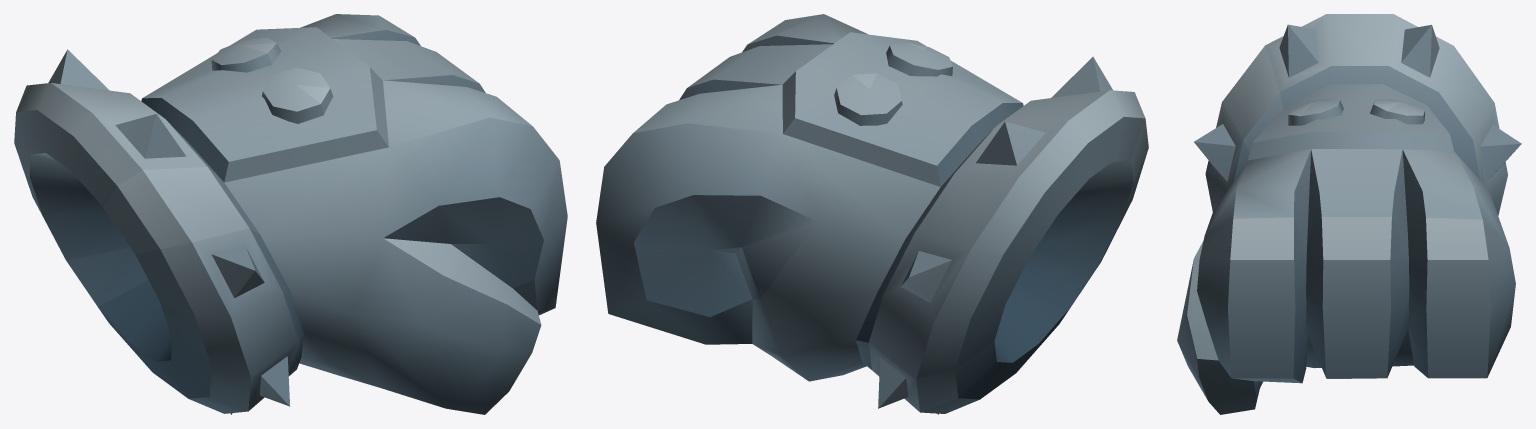
File: fistweapon_C_left.glb
The picture shows the model from 3 angles, left to right: view 1: azimuth 30°, elevation 25°; view 2: azimuth 150°, elevation 25°; view 3: azimuth 270°, elevation 25°; orthographic projection. The views are drawn at different scales.
Visible parts, largest first — view 1: fistweapon_C_left; view 2: fistweapon_C_left; view 3: fistweapon_C_left.
Boxes of the visible parts, x1,y1,x2,y2 form: fistweapon_C_left: (14, 14, 567, 414); fistweapon_C_left: (596, 14, 1148, 414); fistweapon_C_left: (1177, 14, 1521, 414).
Bounding box in the file's own units: 0.5237 × 0.4163 × 0.4464.
1 material, 1 textured.
